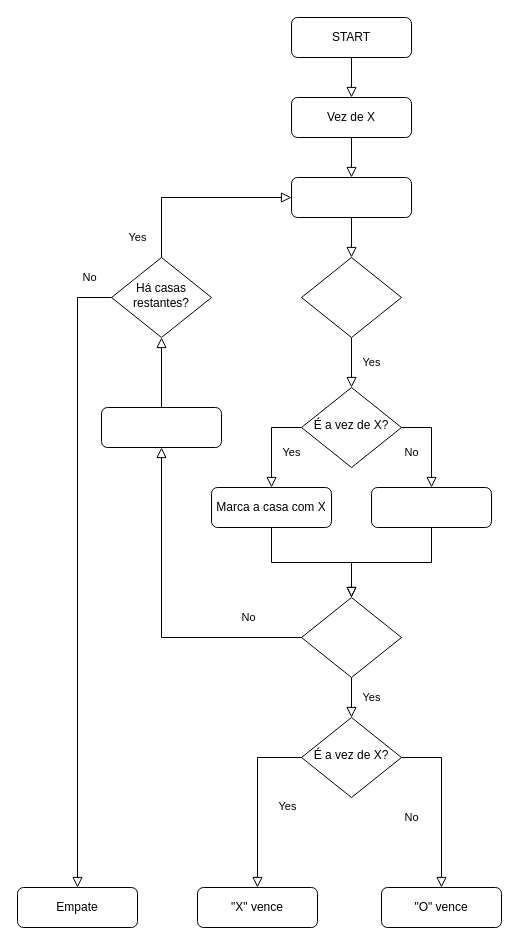
The diagram is 519 pixels wide and 945 high, and some of its shapes have lost their labels. The shapes that lost their labels are listed below. From the top down, each one's centre as x and y in pixels, then its label:
At point (351, 197): "Jogador escolhe a casa".
At point (351, 297): "Casa está vazia?".
At point (161, 427): "Vez do próximo".
At point (431, 507): "Marca a casa com O".
At point (351, 637): "Formou a linha?".
